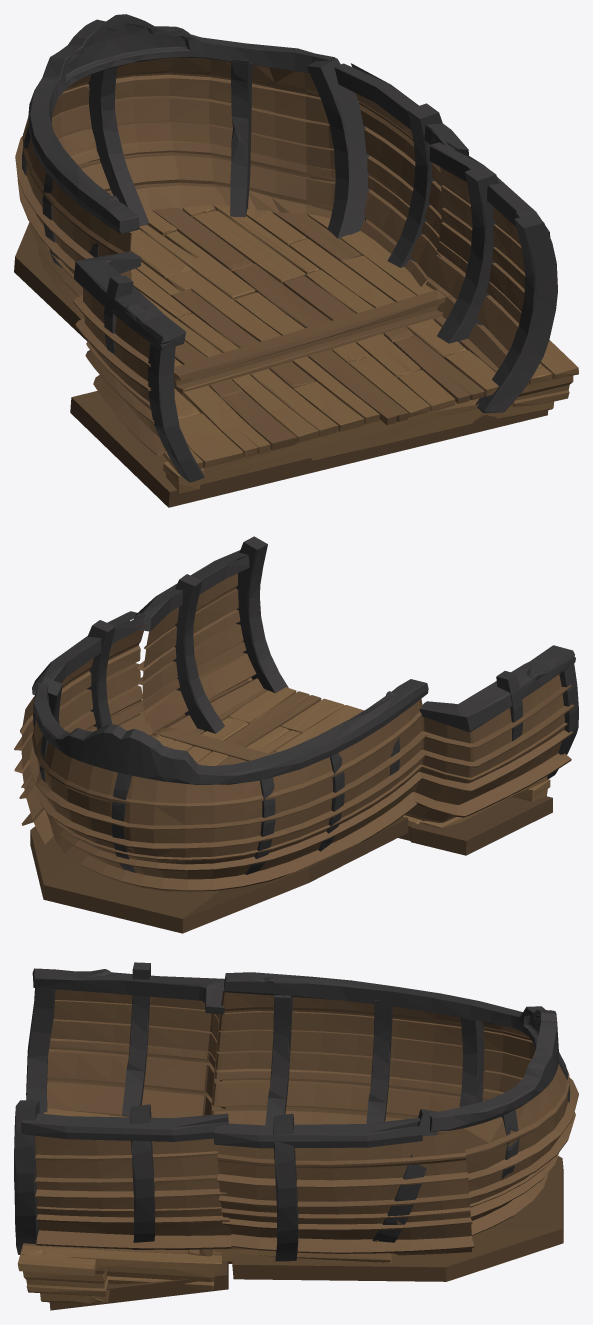
Rendered from Filler_002.fbx.
3 views of the same model, one above another, from view 1: azimuth 30°, elevation 25°; view 2: azimuth 150°, elevation 25°; view 3: azimuth 270°, elevation 25° (orthographic). The views are drawn at different scales.
Visible parts, largest first — view 1: Filler_002; view 2: Filler_002; view 3: Filler_002.
Part boxes in pixels (<box>): Filler_002: <box>14,14,578,507</box>; Filler_002: <box>14,536,578,933</box>; Filler_002: <box>14,962,578,1310</box>.
Bounding box in the file's own units: 8.83 × 4.74 × 11.01.
